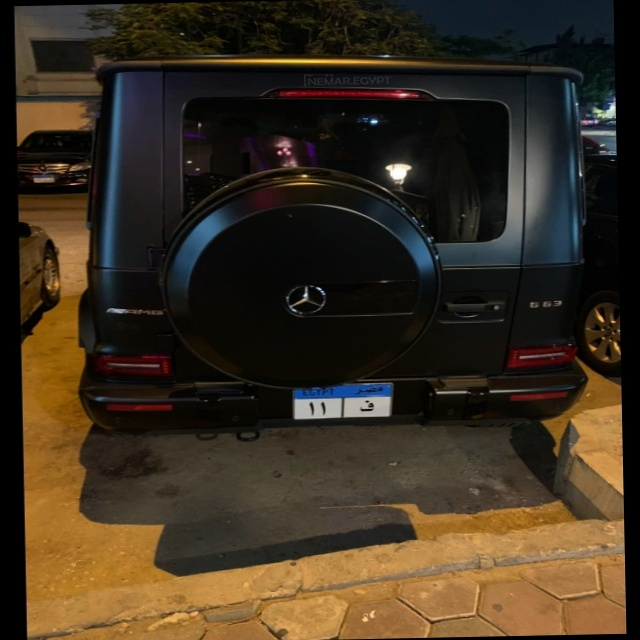License Plate: (290, 381, 395, 421)
